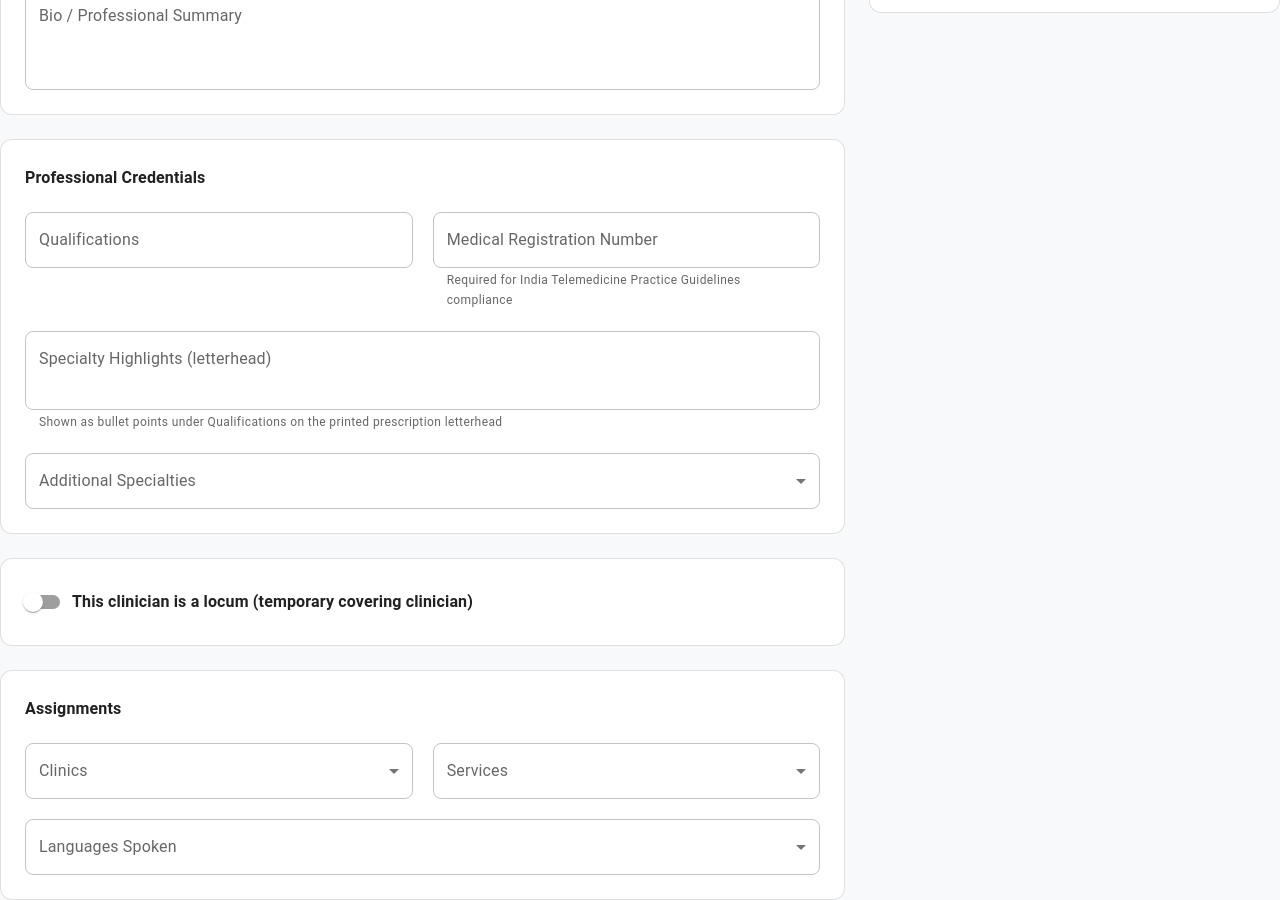
Test: clinicians/CreateClinicianPage (REQ141) › renders real clinics for the assignment dropdown, not fabricated data
(page scrolled)
Click the dropdown next to "Clinics".
click(219, 771)  # box [25,743,413,799]
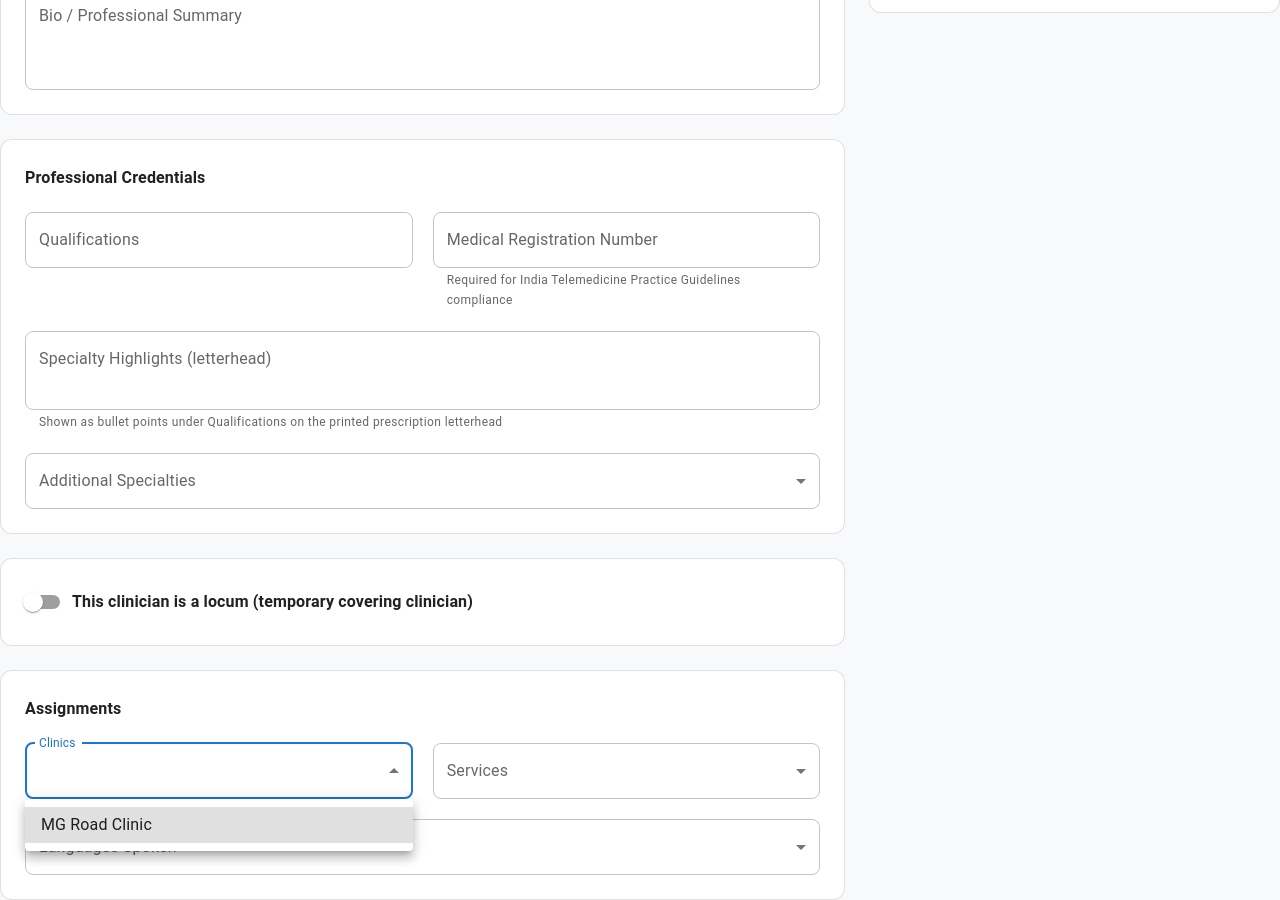
expect the option "MG Road Clinic" is shown: met, box [25,807,413,843]
